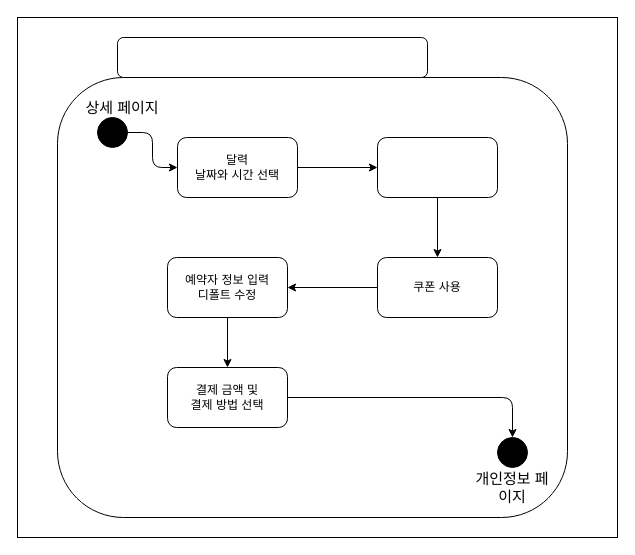
This 635x555 diagram has some shape labels left out. Each missing label, with the box of its shape:
결제 정보 입력: (376, 136, 498, 198)
예약 페이지 : 예약 및 결제: (116, 36, 428, 78)
